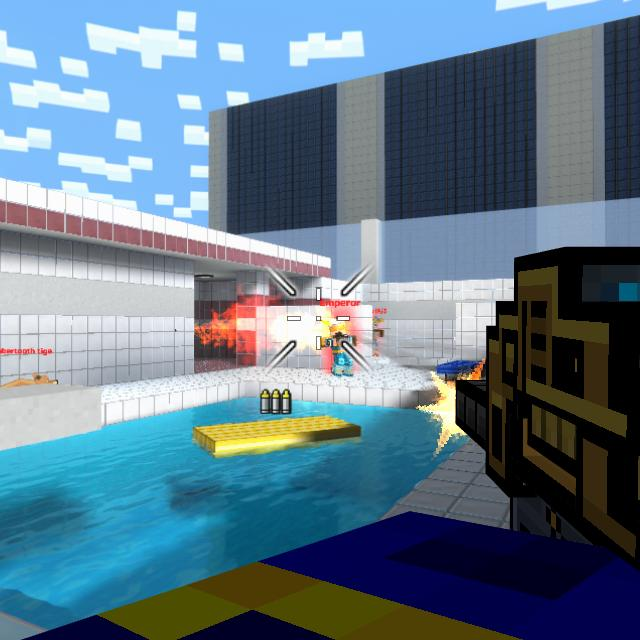Enemy: (322, 317, 359, 379), (373, 318, 385, 357)
